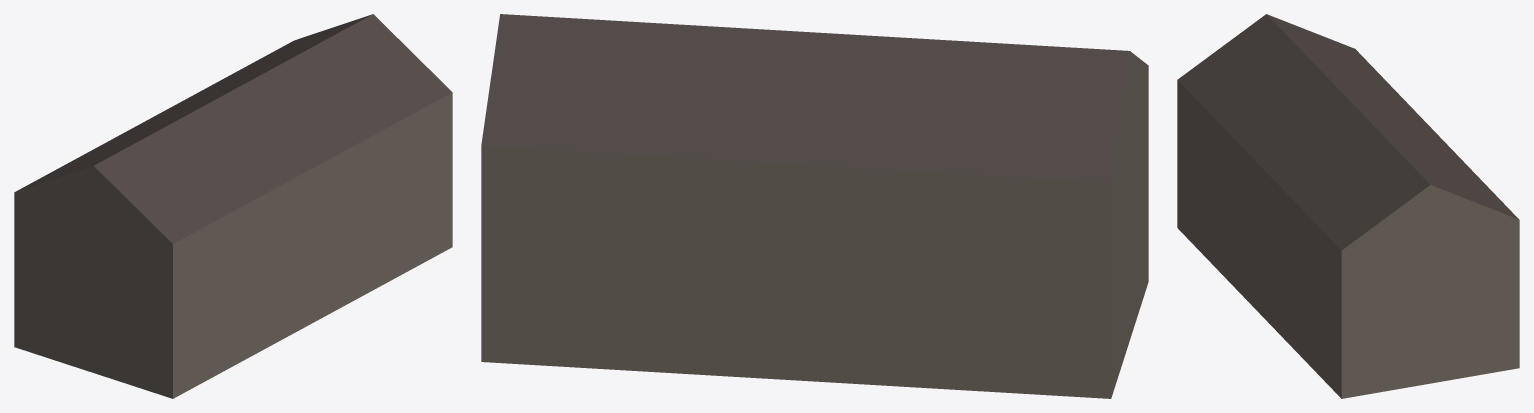
3 views of the same model, side by side, from view 1: azimuth 30°, elevation 25°; view 2: azimuth 150°, elevation 25°; view 3: azimuth 270°, elevation 25° (orthographic). The views are drawn at different scales.
Parts seen in each view (by area): view 1: HP-w859086188; view 2: HP-w859086188; view 3: HP-w859086188.
Part boxes in pixels (bbox=[...]): HP-w859086188: bbox=[14, 14, 452, 398]; HP-w859086188: bbox=[481, 14, 1148, 398]; HP-w859086188: bbox=[1177, 14, 1519, 398].
Size of the model in its own units: 26.24 by 12.05 by 18.8.
